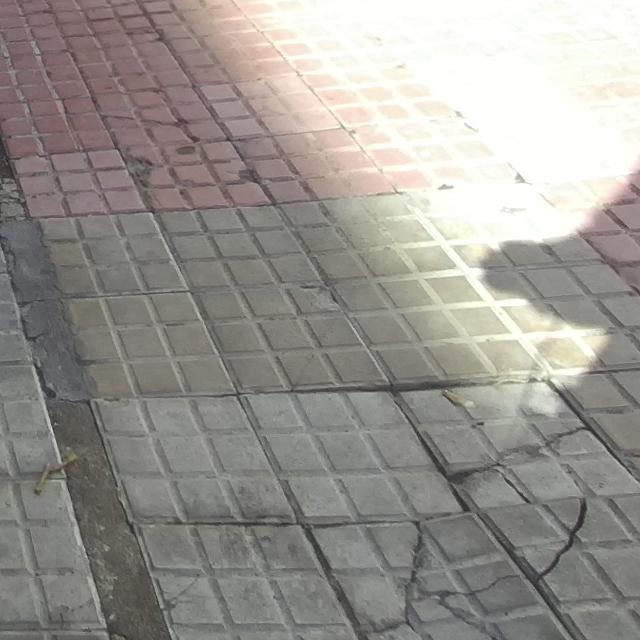calcada_quebrada: (296, 510, 528, 640), (135, 518, 260, 620), (437, 423, 625, 490), (531, 492, 605, 595), (95, 102, 205, 141)
